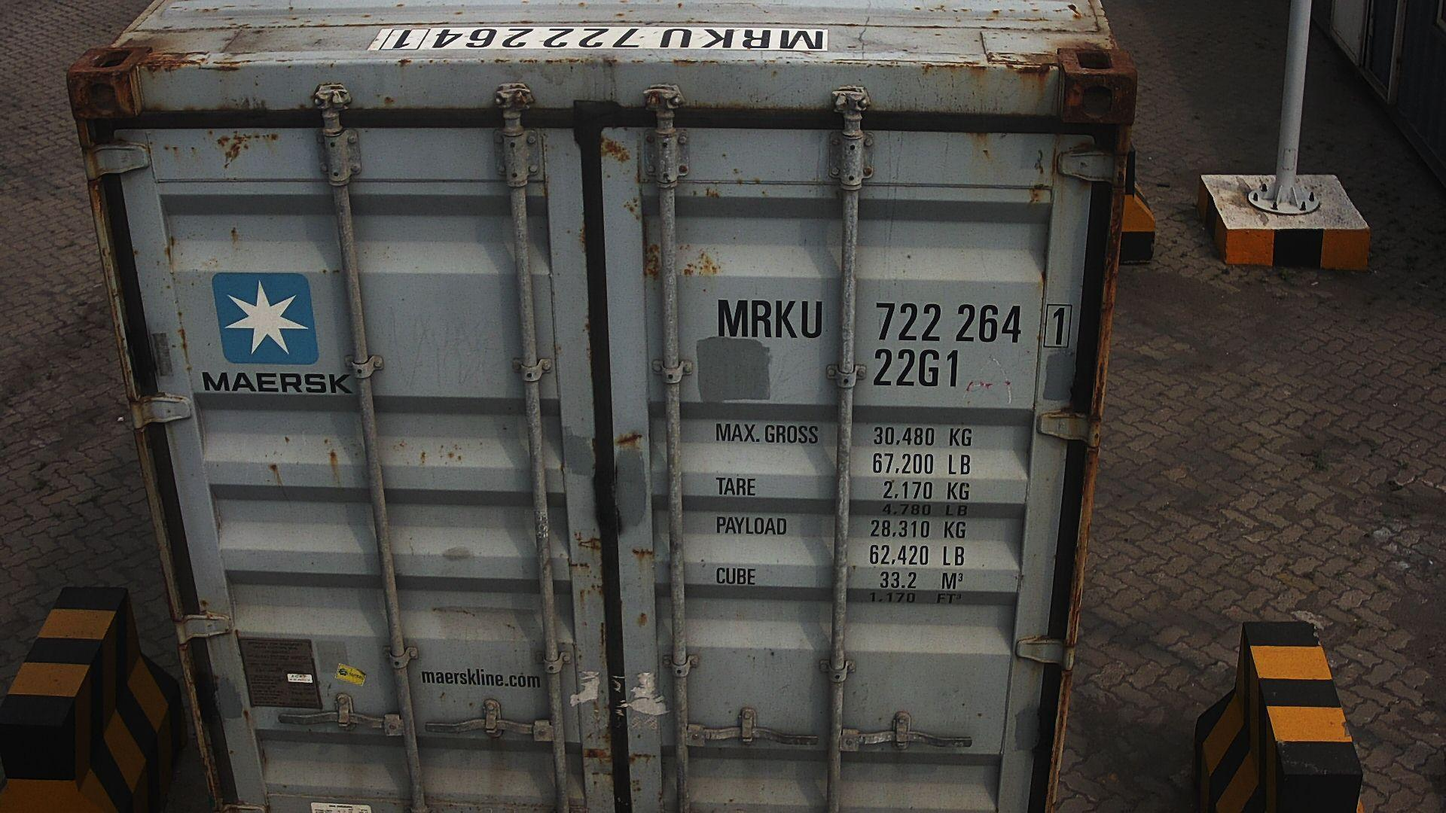container-numbers: (709, 293, 1078, 353), (868, 347, 963, 392)
